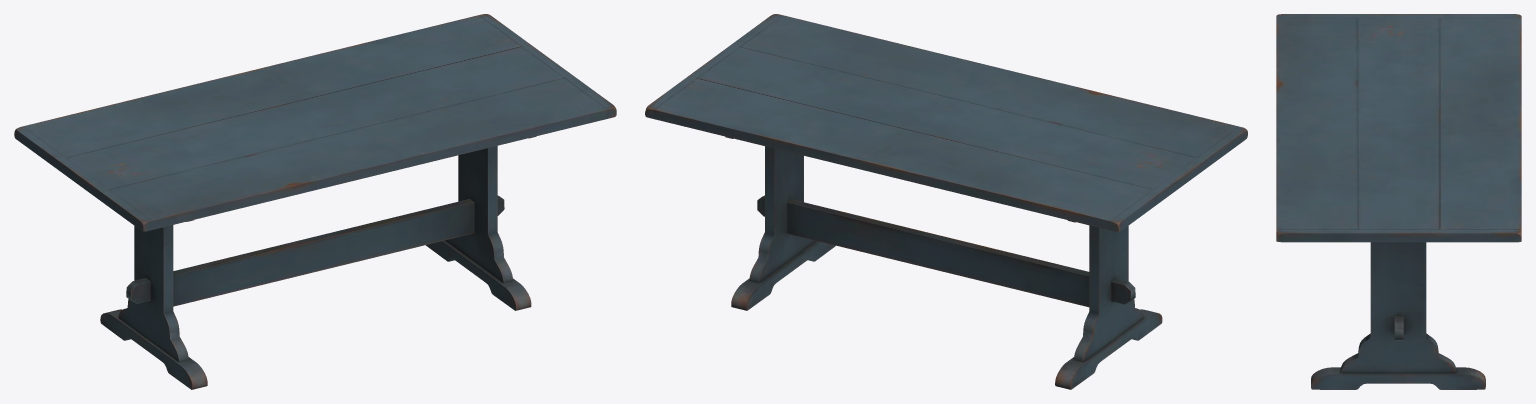
The model's file is feast-table.glb.
The picture shows the model from 3 angles, left to right: view 1: azimuth 30°, elevation 25°; view 2: azimuth 150°, elevation 25°; view 3: azimuth 270°, elevation 25°; orthographic projection. The views are drawn at different scales.
Parts seen in each view (by area): view 1: painted_wooden_table; view 2: painted_wooden_table; view 3: painted_wooden_table.
Part boxes in pixels (bbox=[...]): painted_wooden_table: bbox=[14, 14, 616, 389]; painted_wooden_table: bbox=[645, 14, 1247, 389]; painted_wooden_table: bbox=[1276, 14, 1521, 389].
Bounding box in the file's own units: 2.41 × 0.9586 × 1.14.
Materials: 1 (1 with a texture image).
